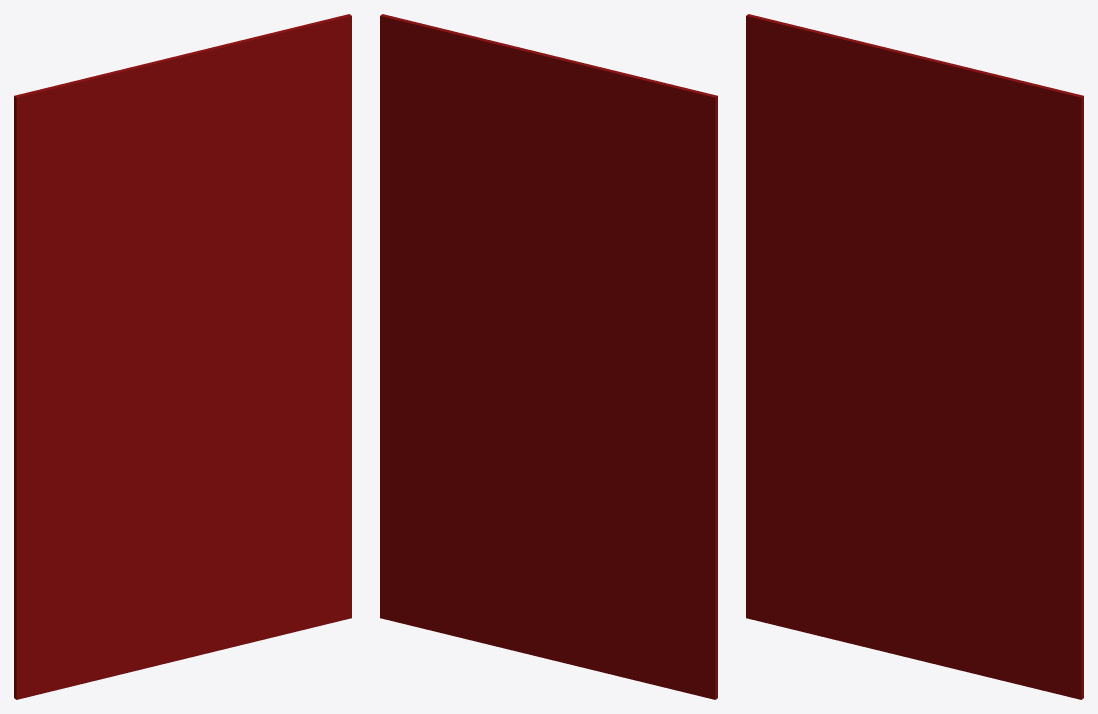
The model's file is MSH_Bandera-v2.FBX.
The picture shows the model from 3 angles, left to right: view 1: azimuth 30°, elevation 25°; view 2: azimuth 150°, elevation 25°; view 3: azimuth 330°, elevation 25°; orthographic projection.
Parts seen in each view (by area): view 1: G_Banderica-2; view 2: G_Banderica-2; view 3: G_Banderica-2.
Part boxes in pixels (x1,y1,x2,y2): G_Banderica-2: (14,14,351,699); G_Banderica-2: (380,14,717,699); G_Banderica-2: (746,14,1083,699).
Size of the model in its own units: 74.2 by 127 by 0.9705.
